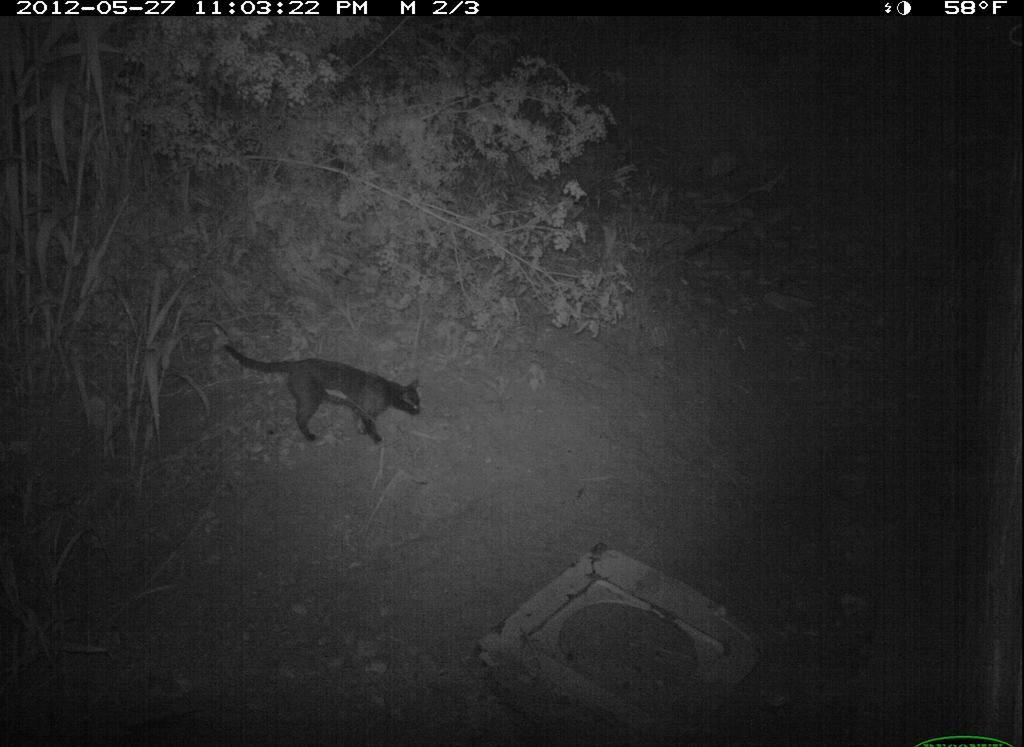cat: (212, 337, 433, 451)
